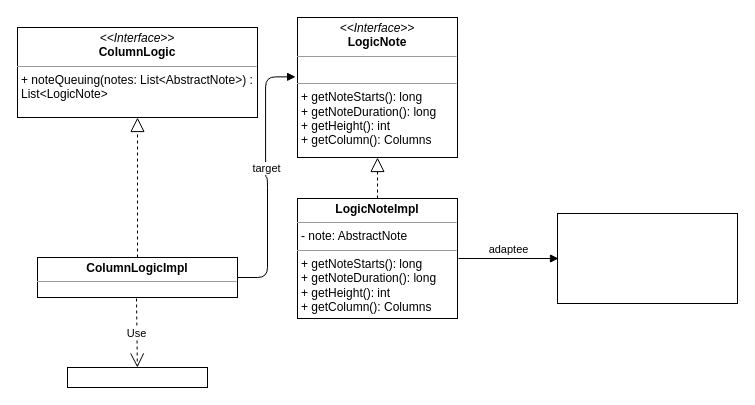
The diagram is 755 pixels wide and 405 high, and some of its shapes have lost their labels. Each missing label, with the centre of its shape:
AbstractNote + getStartTime: long + getDuration: Optional<Long>: point 647,258
NoteRange: point 137,377
